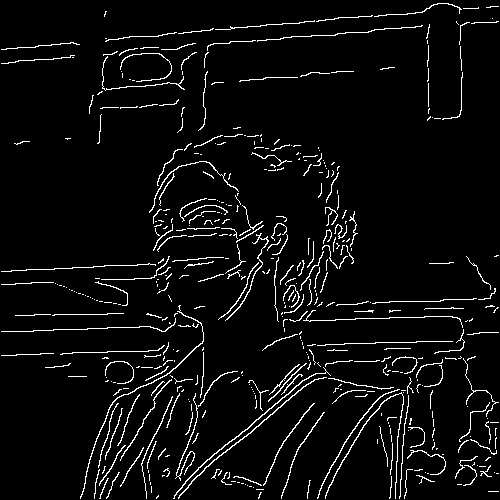mask: (153, 232, 258, 318)
